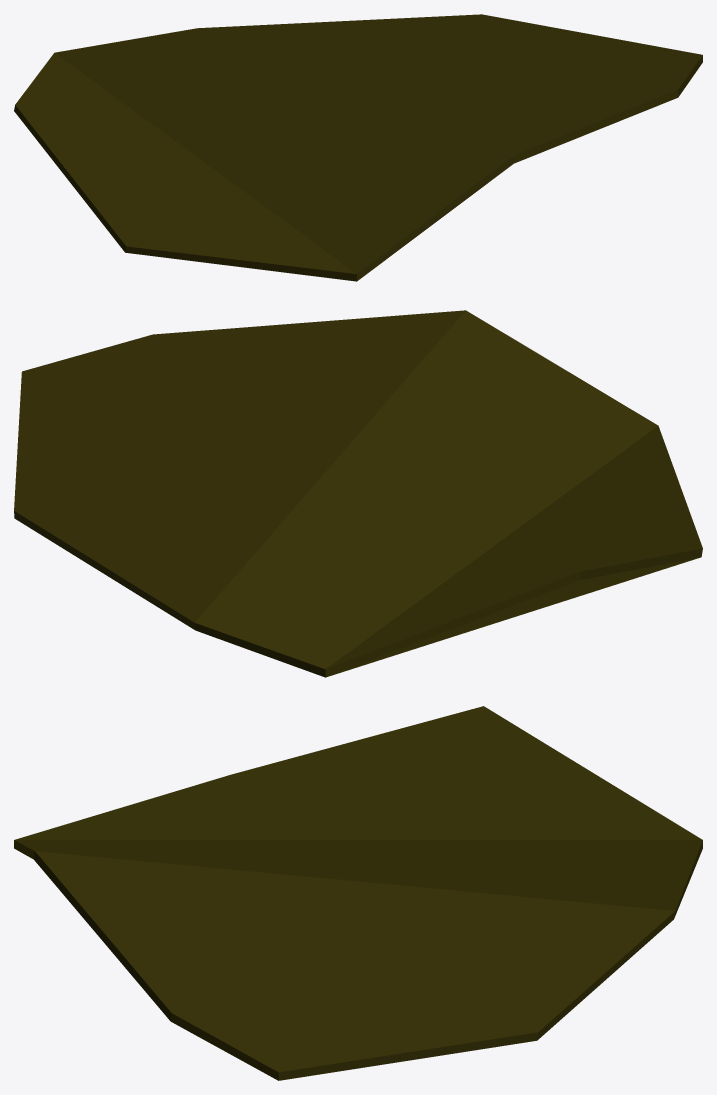
File: szmatka.fbx
3 views of the same model, one above another, from view 1: azimuth 30°, elevation 25°; view 2: azimuth 150°, elevation 25°; view 3: azimuth 270°, elevation 25° (orthographic). The views are drawn at different scales.
Visible parts, largest first — view 1: szmatka; view 2: szmatka; view 3: szmatka.
Boxes of the visible parts, x1,y1,x2,y2 form: szmatka: (14, 14, 702, 281); szmatka: (14, 310, 702, 677); szmatka: (14, 706, 702, 1080).
Size of the model in its own units: 20.51 by 2.86 by 17.98.
